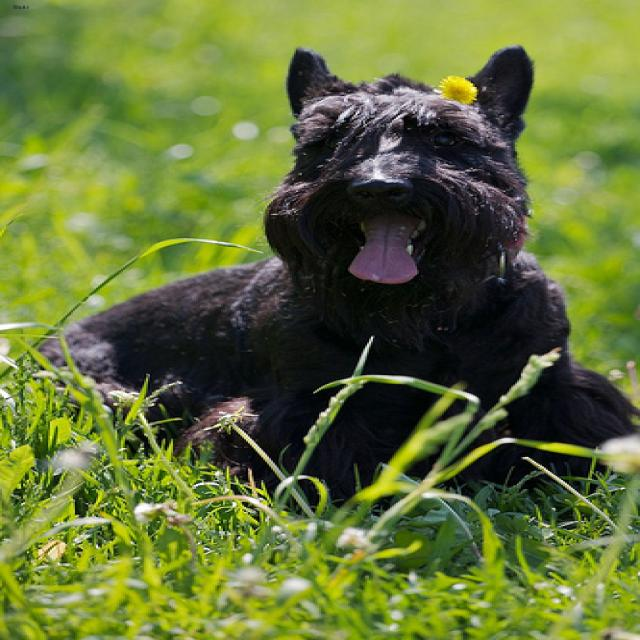dog-scottish_terrier: (2, 36, 636, 562)
